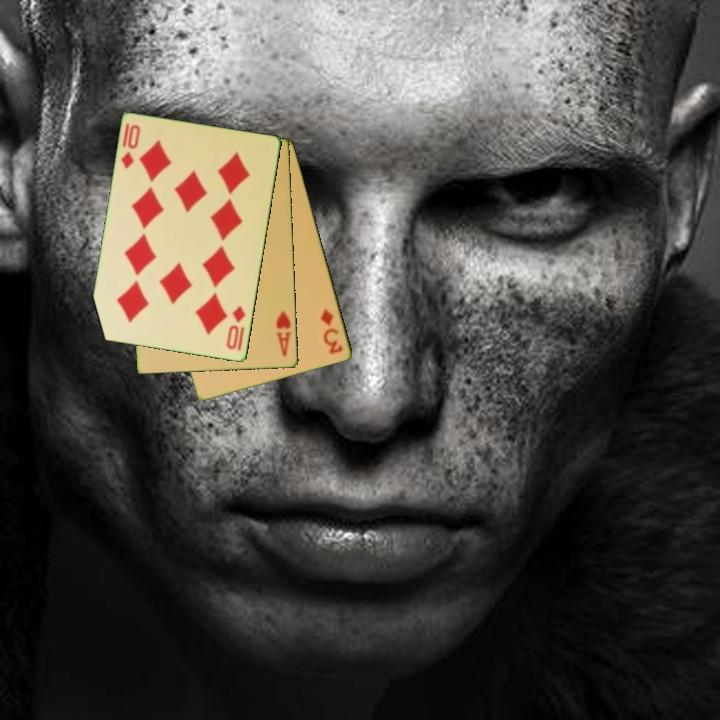10d: (117, 121, 144, 172), (223, 303, 249, 352)
3d: (317, 305, 346, 357)
Ah: (273, 307, 294, 359)
